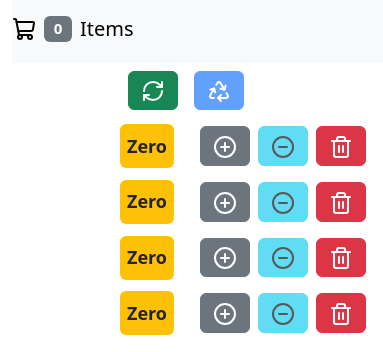
Test: Remove items from cart › Add one item and remove that from the cart
The width and height of the screenshot is (383, 352).
Check: the text with test id "badge-warning1" reads "Zero", box [120, 124, 174, 168]
Click the button with test id "btn-secondary1".
click(225, 146)  # box [200, 126, 250, 166]
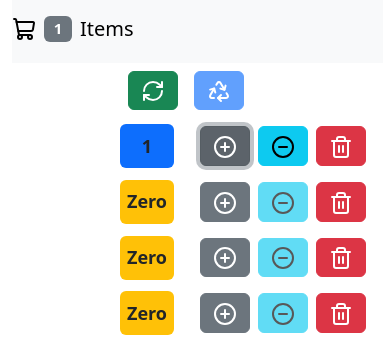
Click the button with test id "btn-info1".
click(283, 146)  # box [258, 126, 308, 166]
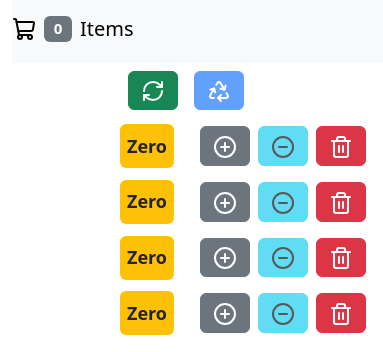
Check: the text with test id "badge-warning1" reads "Zero", box [120, 124, 174, 168]
Check: the text with test id "shopping-cart-totalCounter" reads "0", box [44, 16, 72, 42]
